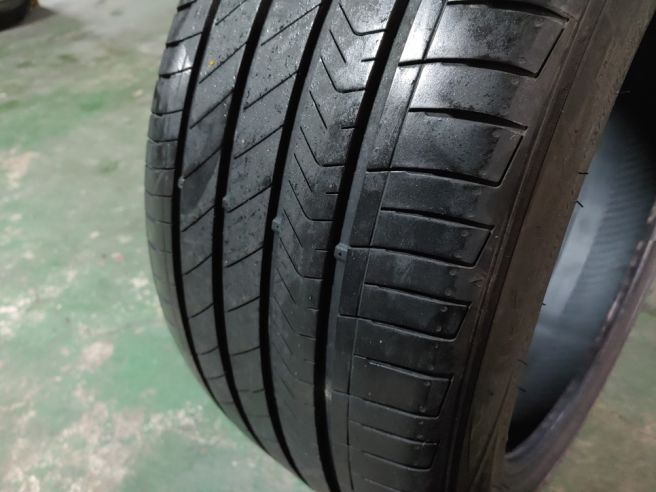new_condition: (147, 1, 621, 492)
